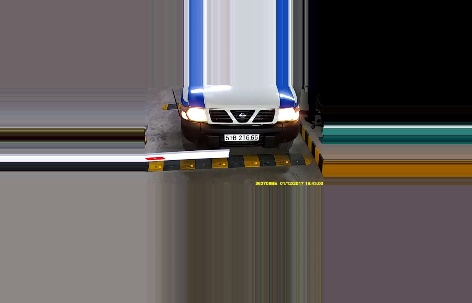plate: (221, 130, 265, 142)
